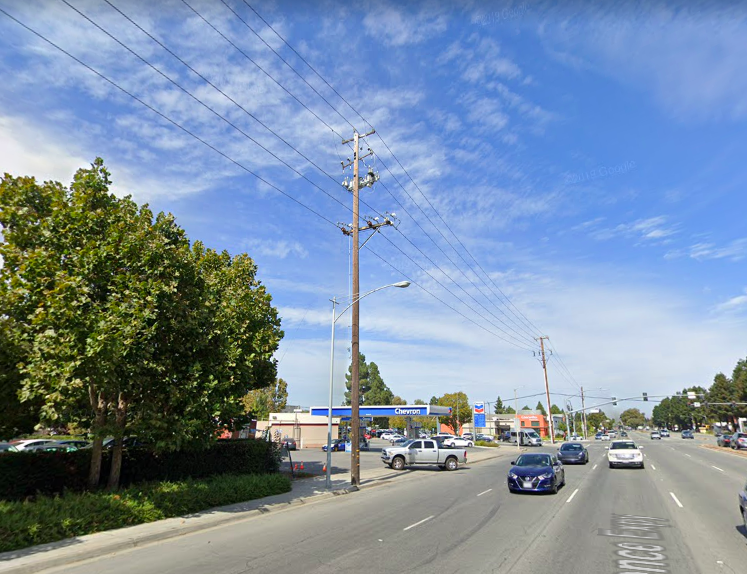tree: (1, 157, 285, 494)
utility_pole: (332, 121, 382, 204), (528, 328, 558, 377)
